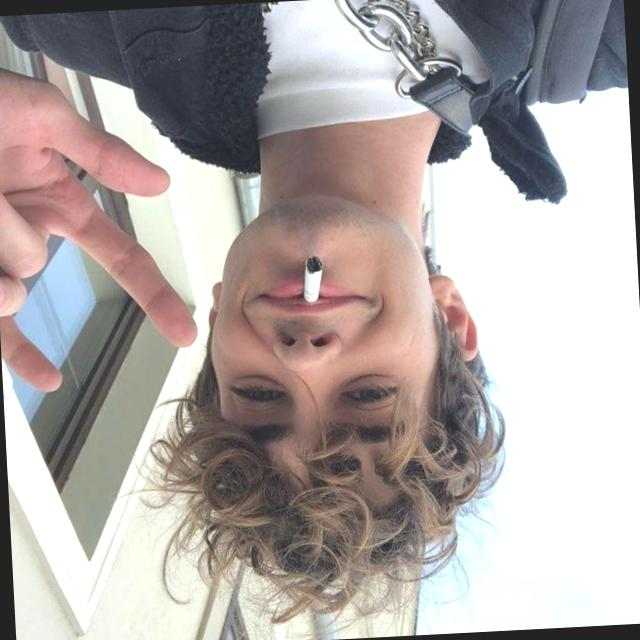smoke: (280, 239, 348, 321)
